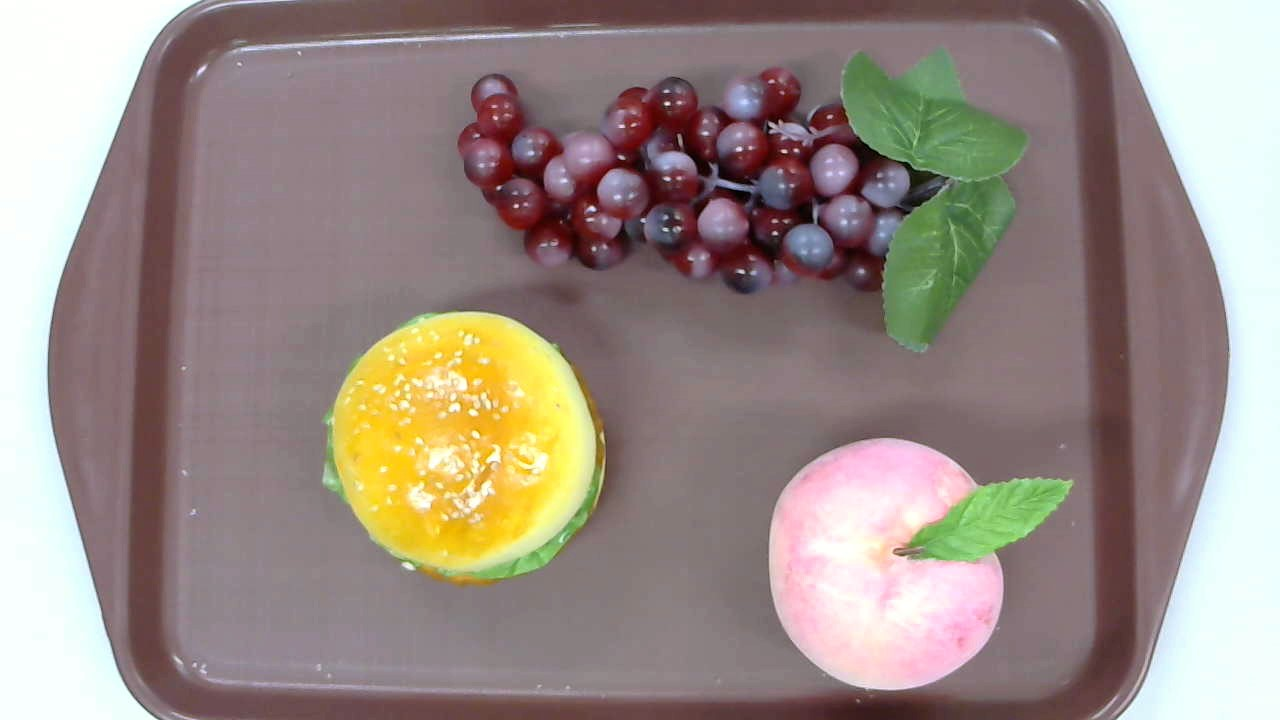grape: (458, 46, 1030, 358)
hamburger: (322, 311, 604, 589)
peach: (767, 438, 1074, 690)
